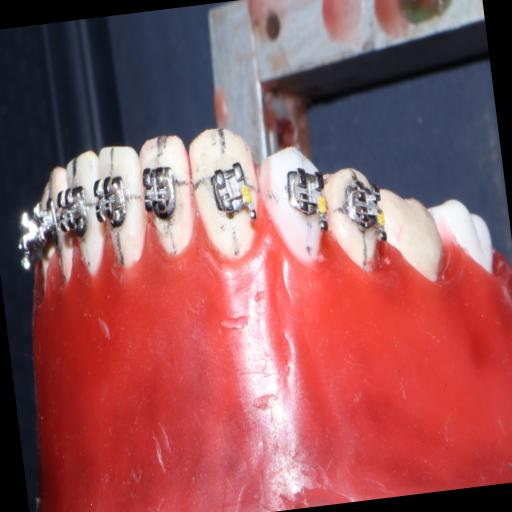incorrect_brace: (204, 156, 258, 227)
